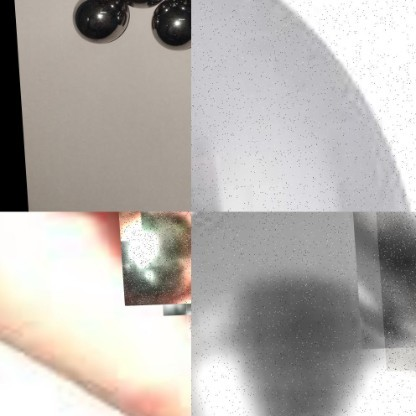ironball: (191, 0, 415, 211), (191, 211, 415, 415), (114, 211, 191, 308), (373, 211, 415, 373), (73, 1, 129, 51), (149, 0, 194, 51), (180, 271, 191, 340)
